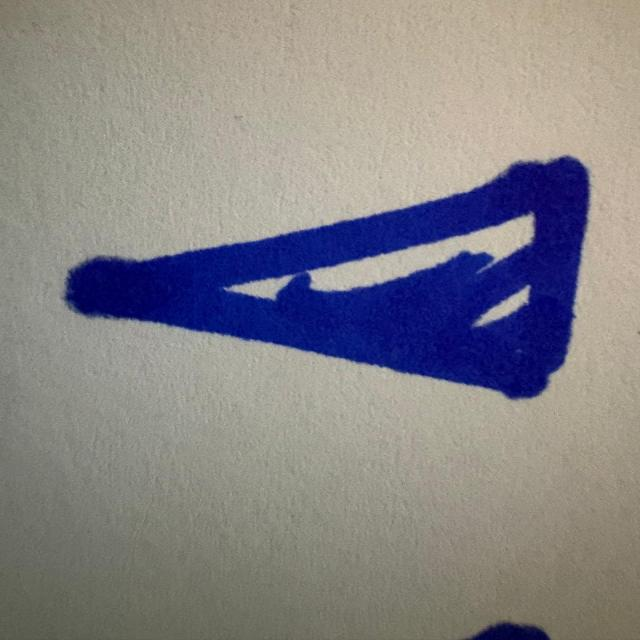Triangle: (44, 131, 599, 417)
